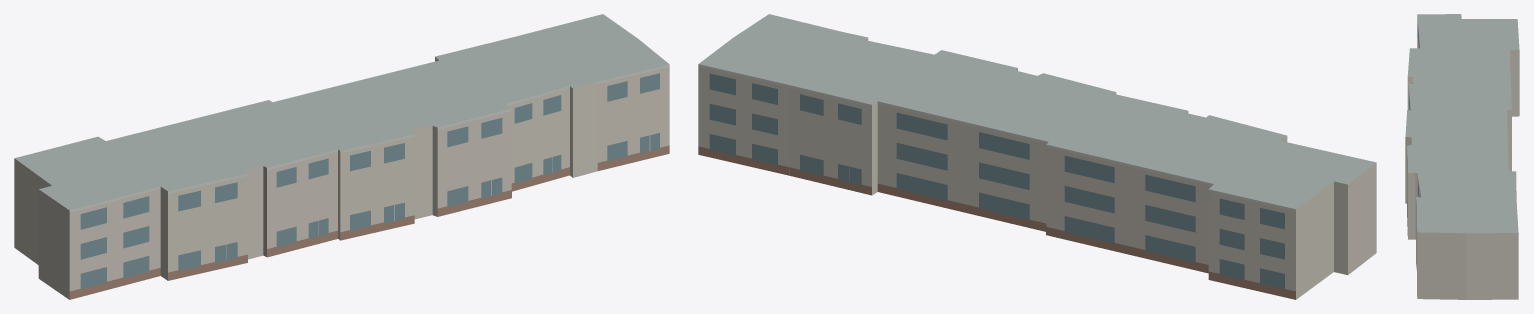
Rendered from survey-upis-32472230.glb.
The picture shows the model from 3 angles, left to right: view 1: azimuth 30°, elevation 25°; view 2: azimuth 150°, elevation 25°; view 3: azimuth 270°, elevation 25°; orthographic projection. The views are drawn at different scales.
Visible parts, largest first — view 1: survey-upis-32472230.tmp; view 2: survey-upis-32472230.tmp; view 3: survey-upis-32472230.tmp.
Part boxes in pixels (left/top/right/bottom): survey-upis-32472230.tmp: left=14, top=14, right=669, bottom=299; survey-upis-32472230.tmp: left=698, top=14, right=1376, bottom=299; survey-upis-32472230.tmp: left=1405, top=14, right=1519, bottom=299.
Bounding box in the file's own units: 64.6 × 9.15 × 14.2.
